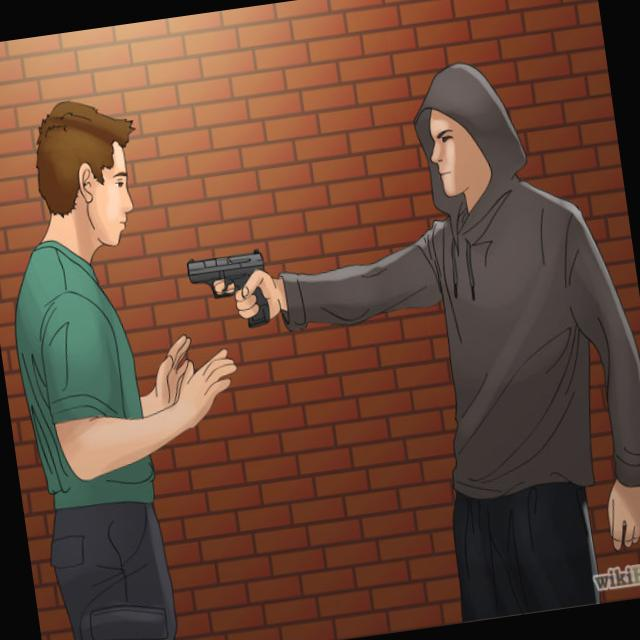handgun: (184, 242, 280, 338)
